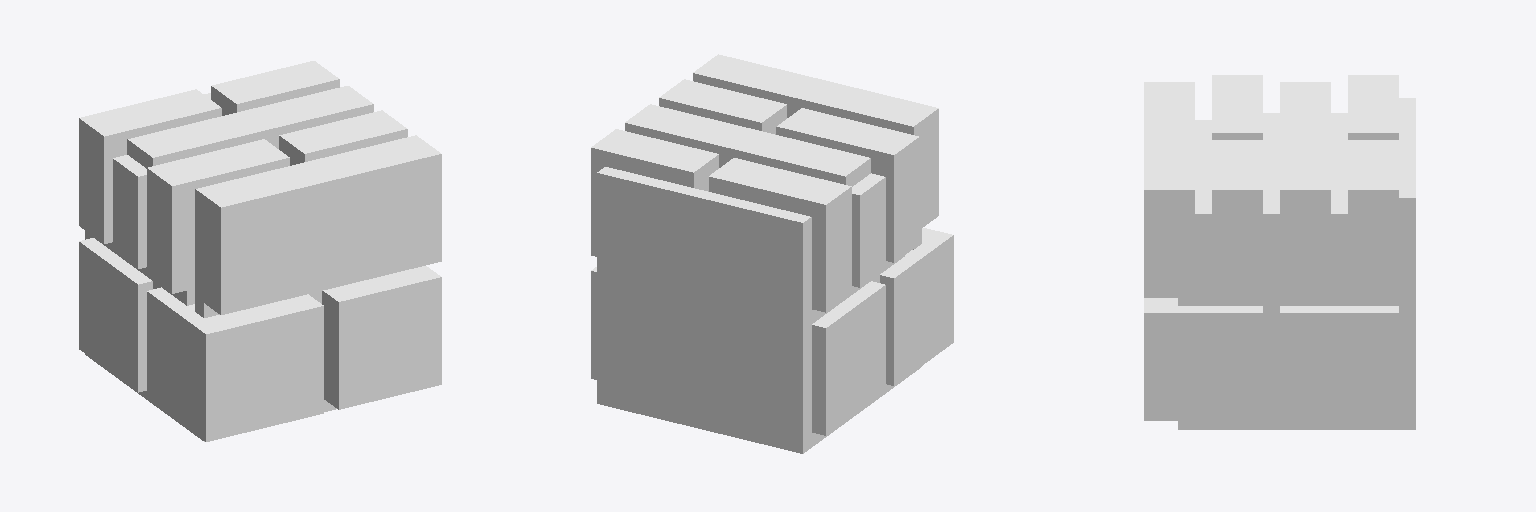
Rendered from bricks2.obj.
3 renders of one model, left to right at view 1: azimuth 30°, elevation 25°; view 2: azimuth 150°, elevation 25°; view 3: azimuth 270°, elevation 25°, orthographic.
Parts seen in each view (by area): view 1: brick2; view 2: brick2; view 3: brick2.
Boxes of the visible parts, x1,y1,x2,y2 form: brick2: [79, 61, 441, 441]; brick2: [591, 54, 953, 453]; brick2: [1144, 75, 1415, 429].
Bounding box in the file's own units: 0.1 × 0.1 × 0.1.